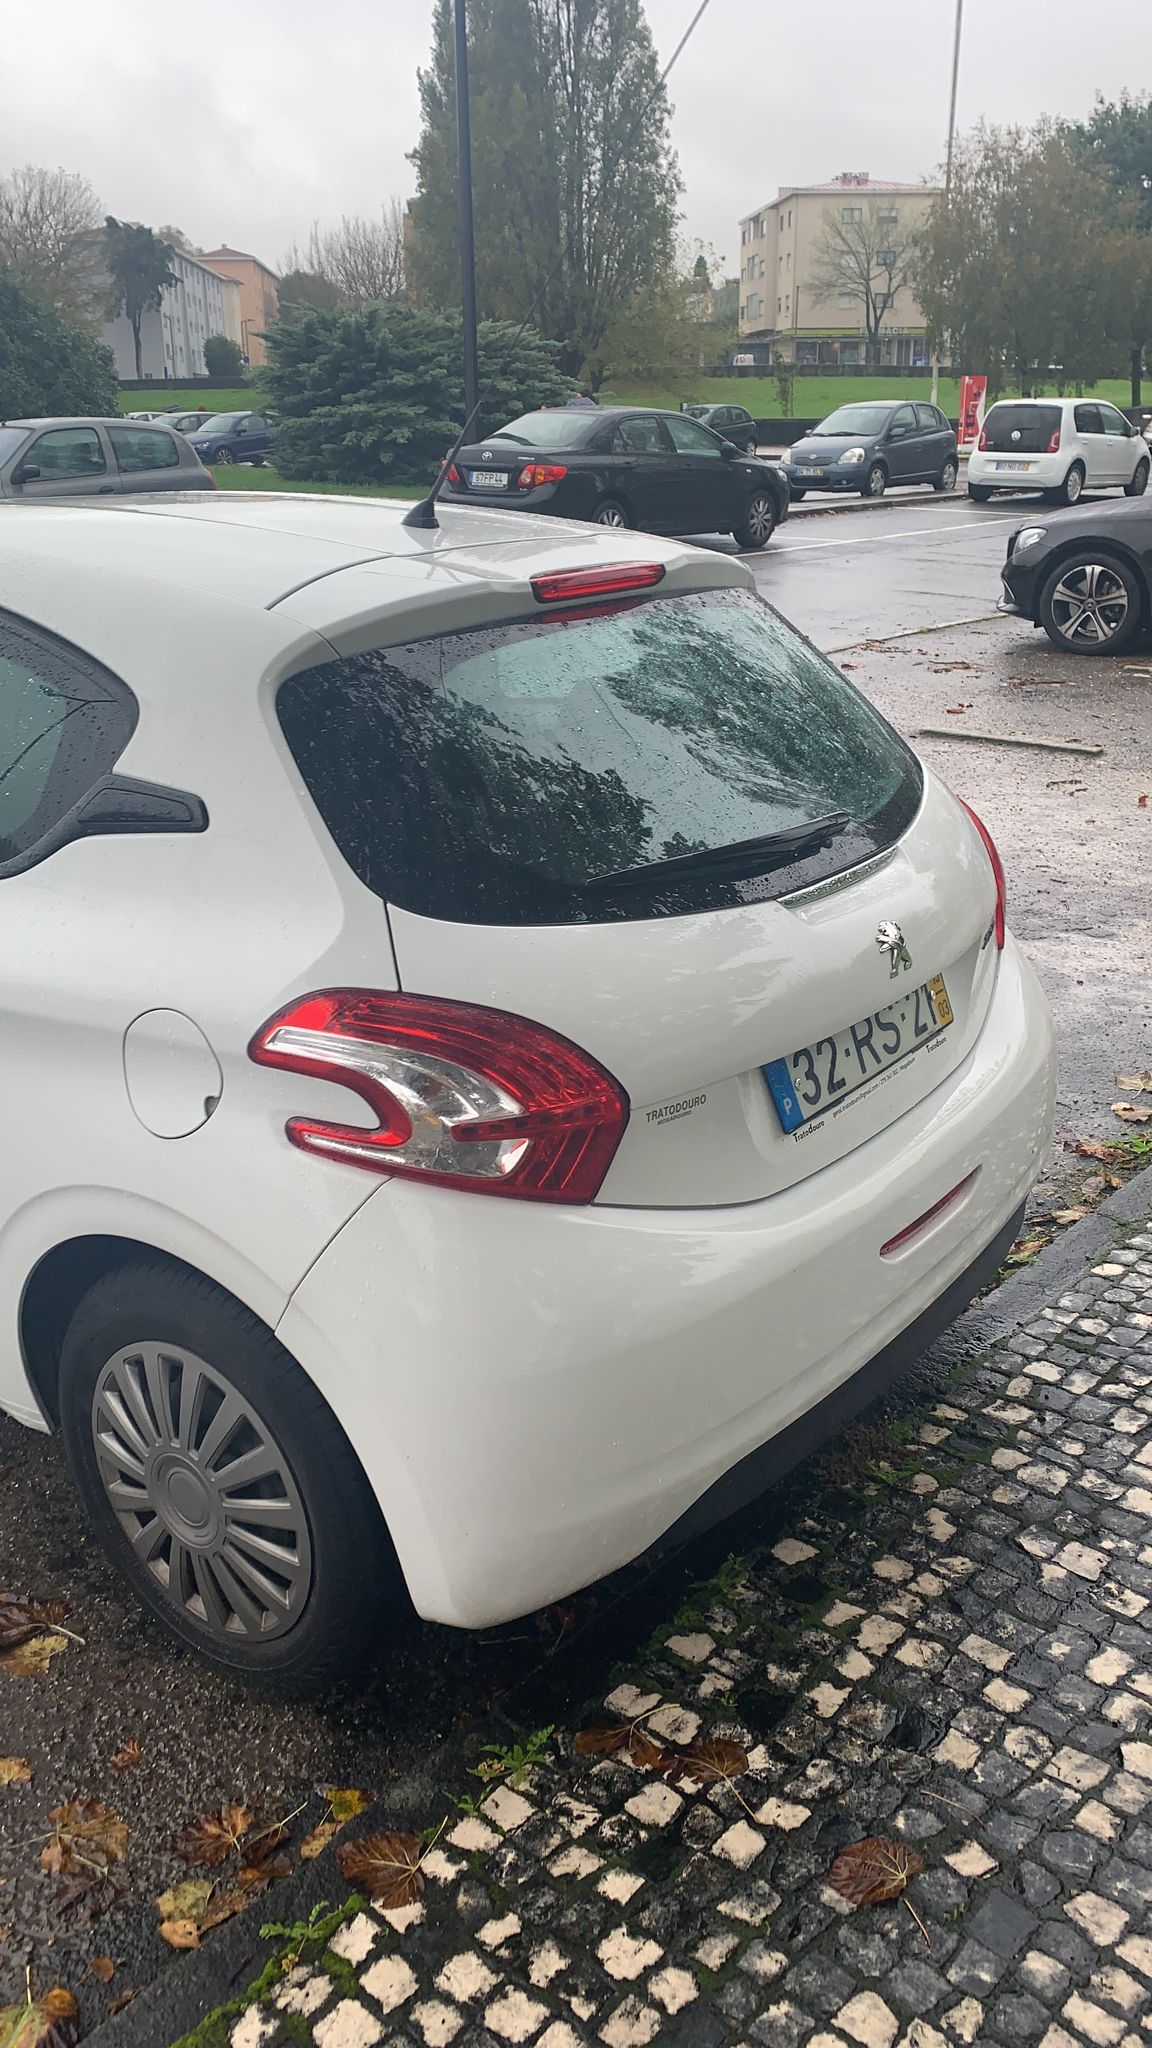carplate: (744, 958, 983, 1142)
